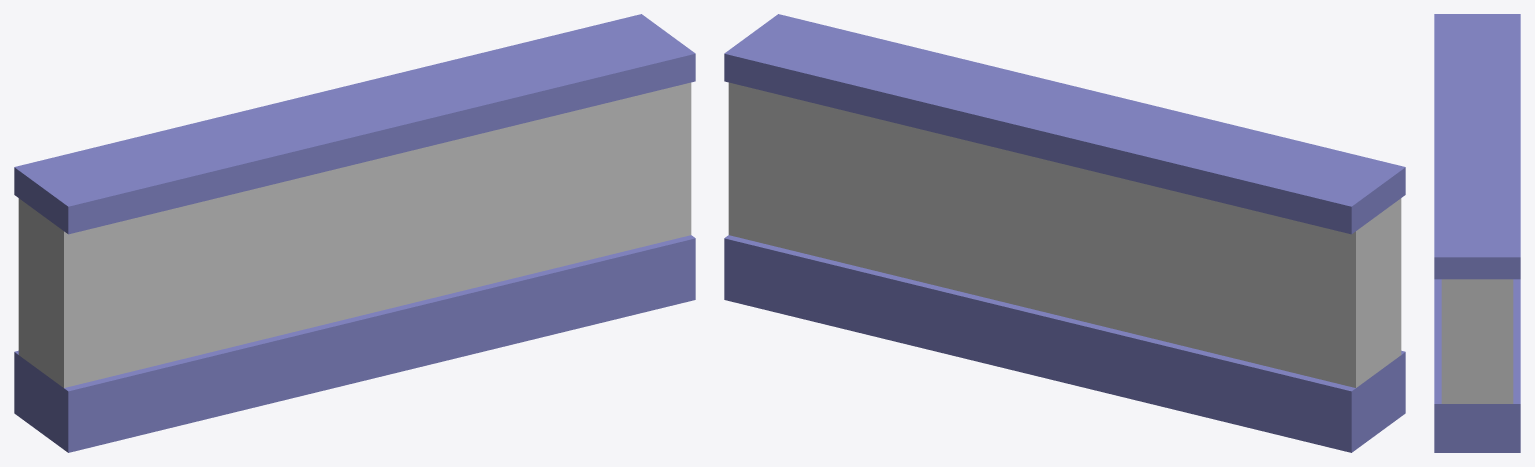
The model's file is LongWallPiece.fbx.
3 views of the same model, side by side, from view 1: azimuth 30°, elevation 25°; view 2: azimuth 150°, elevation 25°; view 3: azimuth 270°, elevation 25° (orthographic). The views are drawn at different scales.
Parts seen in each view (by area): view 1: Cube.002; view 2: Cube.002; view 3: Cube.002.
Part boxes in pixels (x1,y1,x2,y2): Cube.002: (14,14,695,452); Cube.002: (724,14,1405,452); Cube.002: (1434,14,1520,452).
Size of the model in its own units: 800 by 300 by 120.
